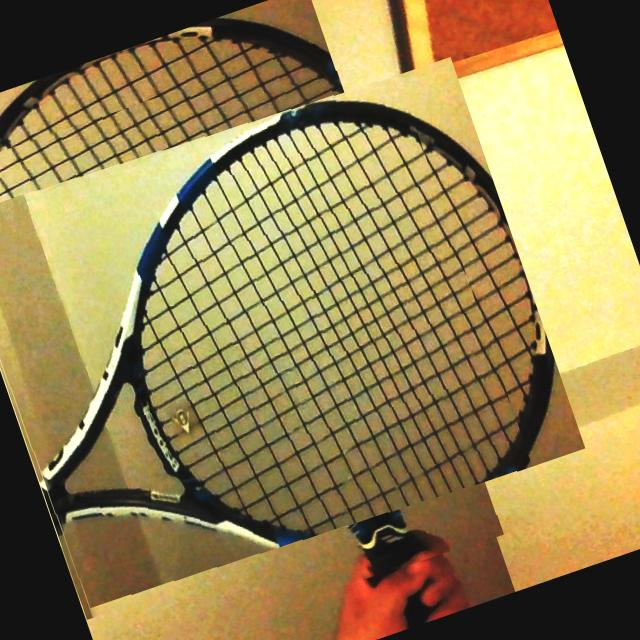TennisRacket: (0, 21, 549, 640)
